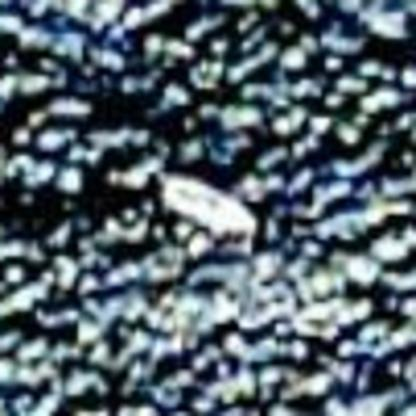ship: (150, 162, 264, 252)
